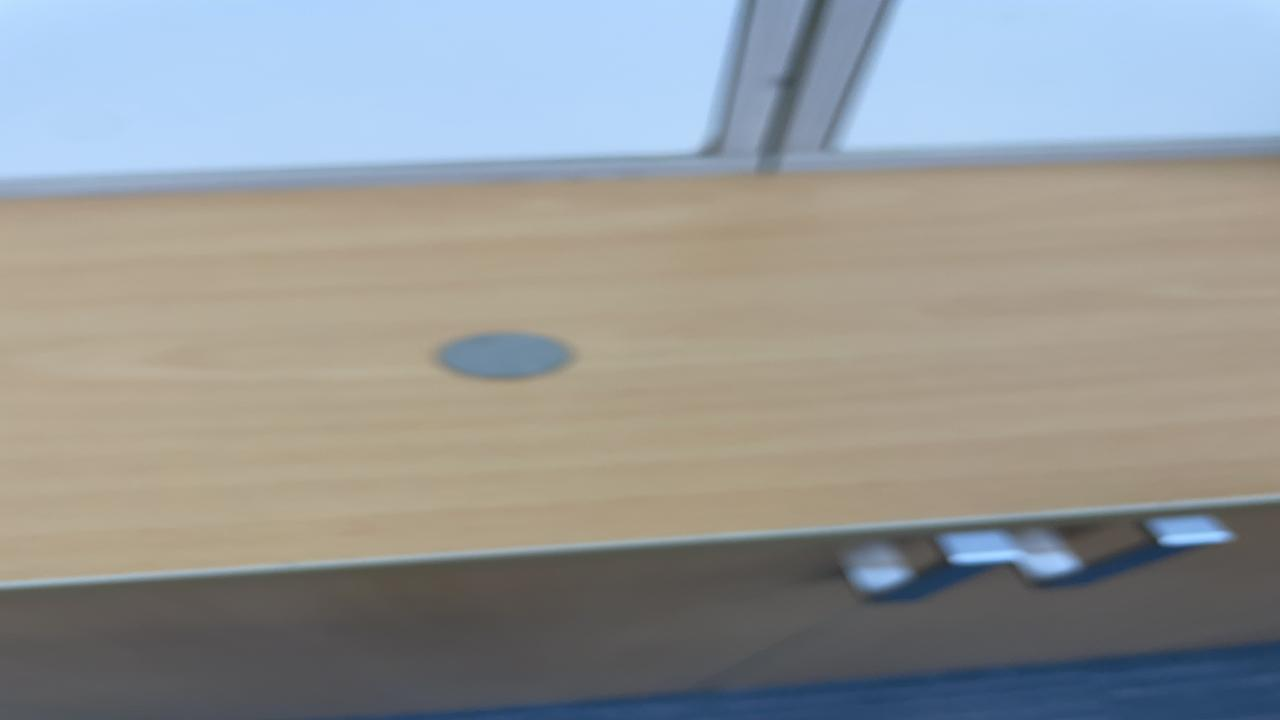coin: (429, 330, 579, 382)
